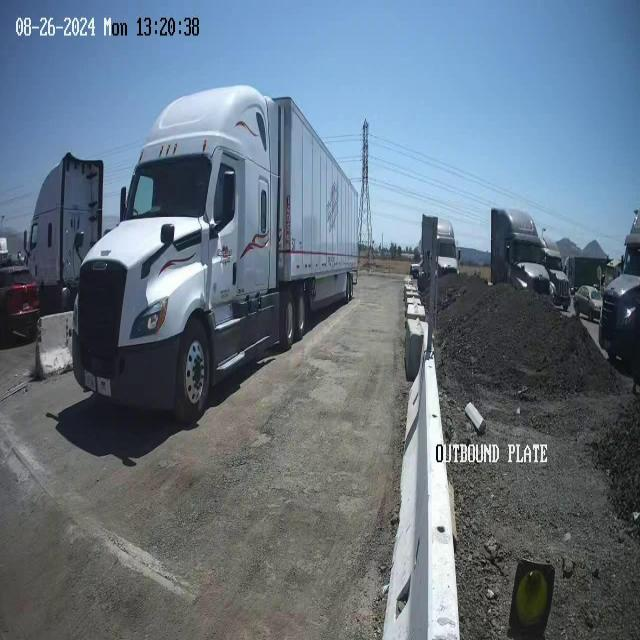TRUCK_CONTAINER: (70, 83, 360, 426)
